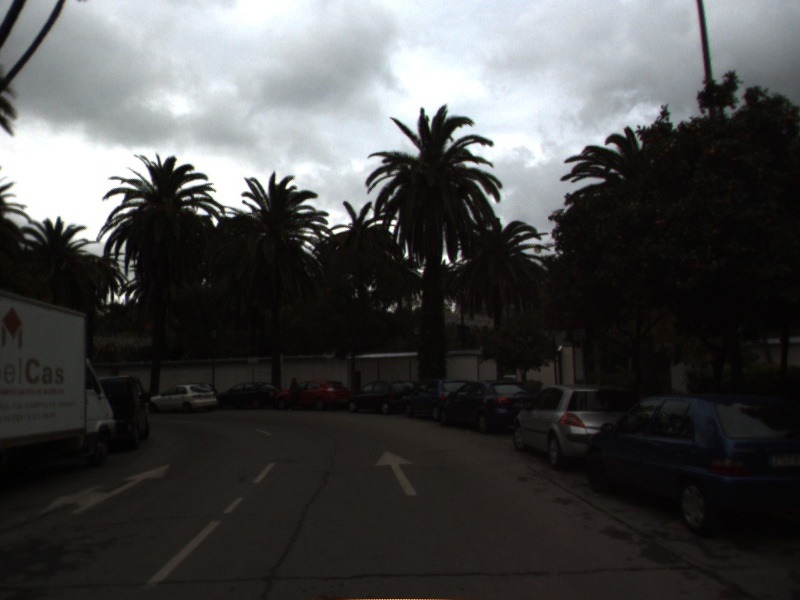STRAIGHT: (373, 448, 419, 497)
STRAIGHT_LEFT: (36, 462, 173, 517)
